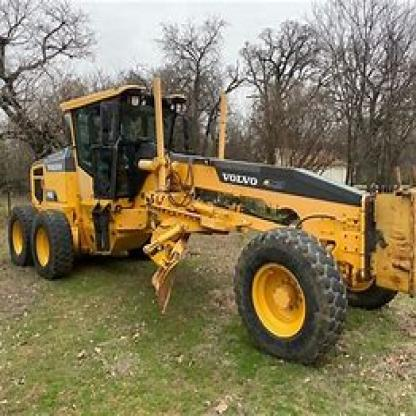bull_dozer/loader/grader: (11, 80, 415, 362)
